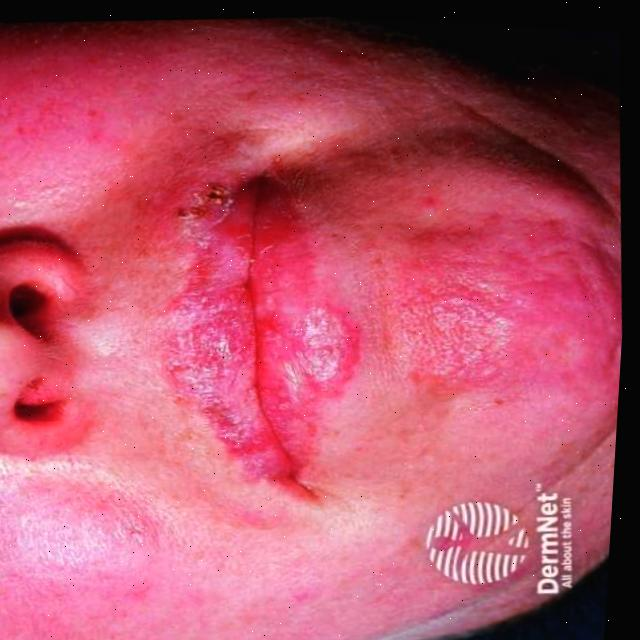lupus-detected: (118, 116, 361, 503), (455, 177, 631, 426), (284, 265, 384, 398)
